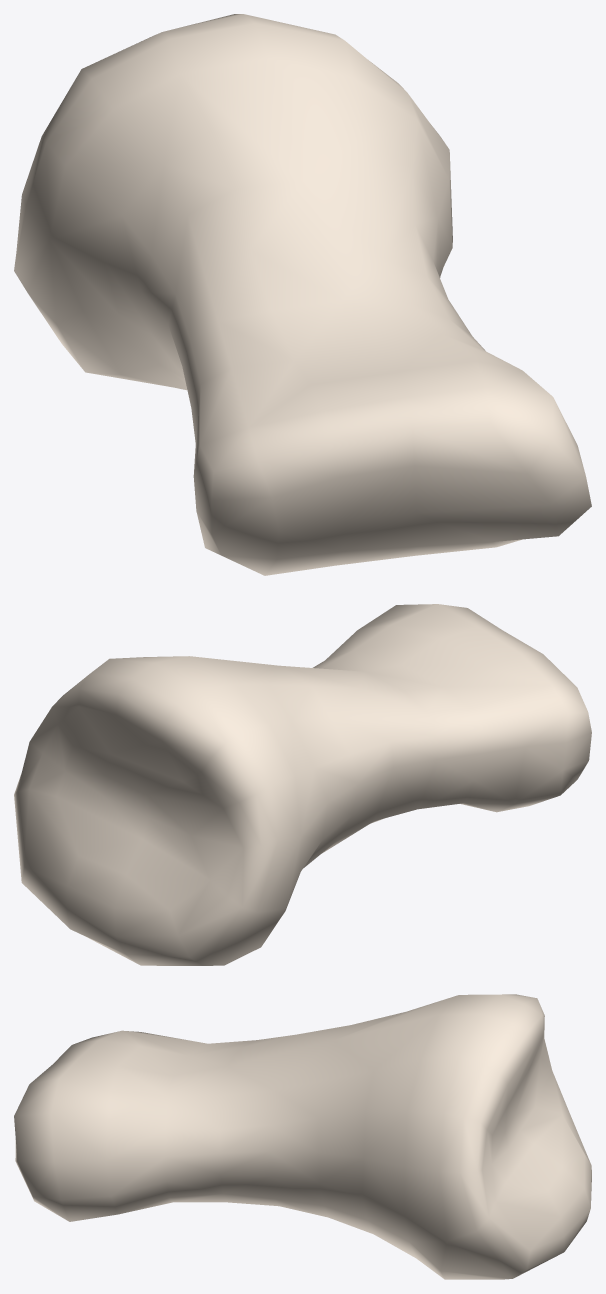
Rendered from right_toe_3_middle.glb.
The picture shows the model from 3 angles, top to bottom: view 1: azimuth 30°, elevation 25°; view 2: azimuth 150°, elevation 25°; view 3: azimuth 270°, elevation 25°; orthographic projection. The views are drawn at different scales.
Parts seen in each view (by area): view 1: Middle phalanx of third finger of foot.r; view 2: Middle phalanx of third finger of foot.r; view 3: Middle phalanx of third finger of foot.r.
Part boxes in pixels (box(x1,y1,x2,y2)): Middle phalanx of third finger of foot.r: box(14, 14, 591, 575); Middle phalanx of third finger of foot.r: box(14, 604, 591, 965); Middle phalanx of third finger of foot.r: box(14, 994, 591, 1279).
Bounding box in the file's own units: 0.0117 × 0.00775 × 0.0169.
